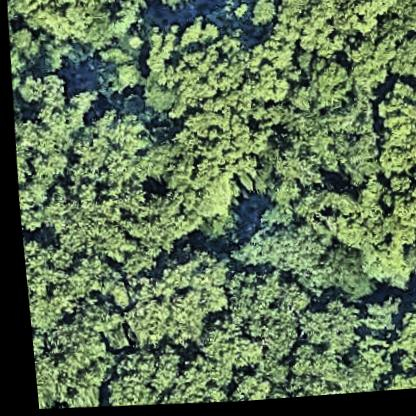tree-top: (126, 20, 280, 125), (6, 65, 91, 187), (119, 256, 223, 353), (5, 0, 149, 70), (268, 189, 385, 274), (255, 0, 410, 64), (237, 201, 340, 286), (62, 101, 152, 197), (177, 117, 262, 217), (243, 104, 340, 188), (218, 271, 299, 362), (24, 319, 100, 411), (42, 181, 126, 261), (367, 81, 416, 192), (93, 346, 177, 410), (18, 236, 77, 327), (272, 346, 362, 402), (291, 48, 357, 116), (290, 299, 358, 364), (324, 192, 388, 261), (351, 242, 416, 304), (121, 192, 185, 254), (170, 346, 231, 407), (95, 365, 154, 408), (380, 305, 416, 374), (381, 187, 416, 256), (350, 295, 401, 339), (216, 372, 270, 405), (382, 38, 416, 89), (238, 0, 280, 34), (366, 371, 416, 396), (398, 275, 416, 343), (137, 0, 213, 13), (411, 354, 416, 394)
